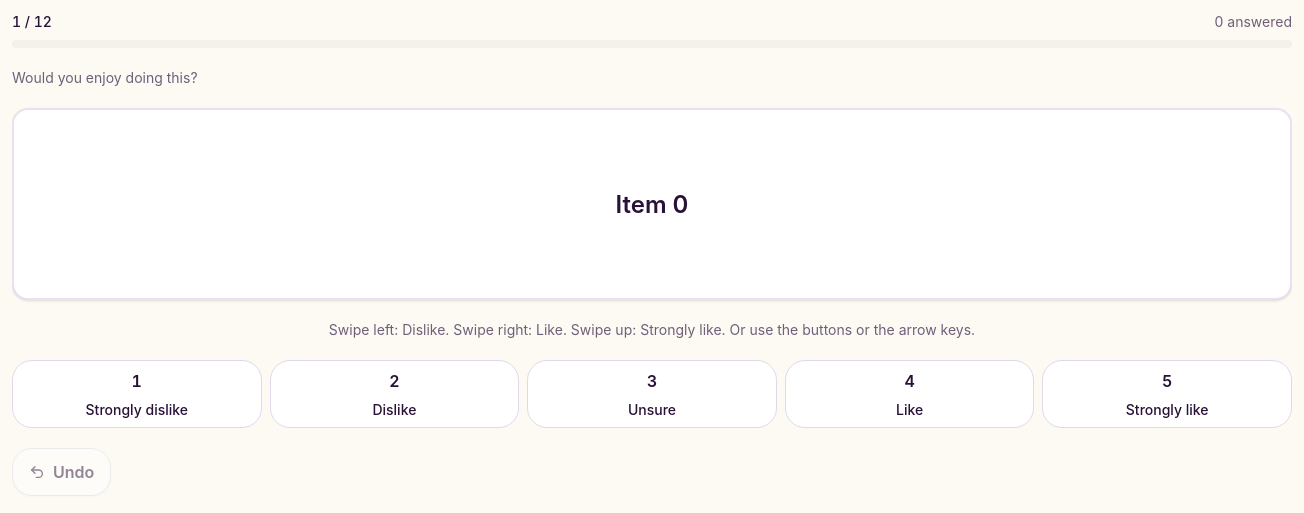
Test case: SequenceStation (D2/D3) › answers with the visible buttons (all 5 points) and advances
Expected: the text with test id "counter" reads "1 / 12", x1=12 y1=13 x2=52 y2=30
Click the button "3 Unsure": click(652, 394) x1=527 y1=360 x2=777 y2=428
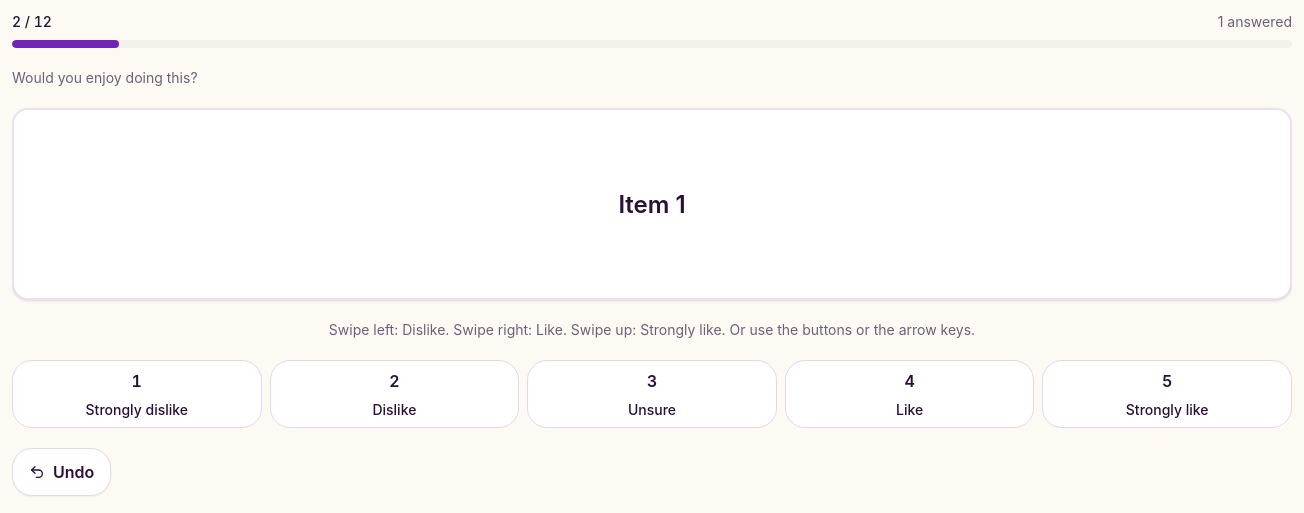
Expected: the text with test id "counter" reads "2 / 12", x1=12 y1=13 x2=52 y2=30
